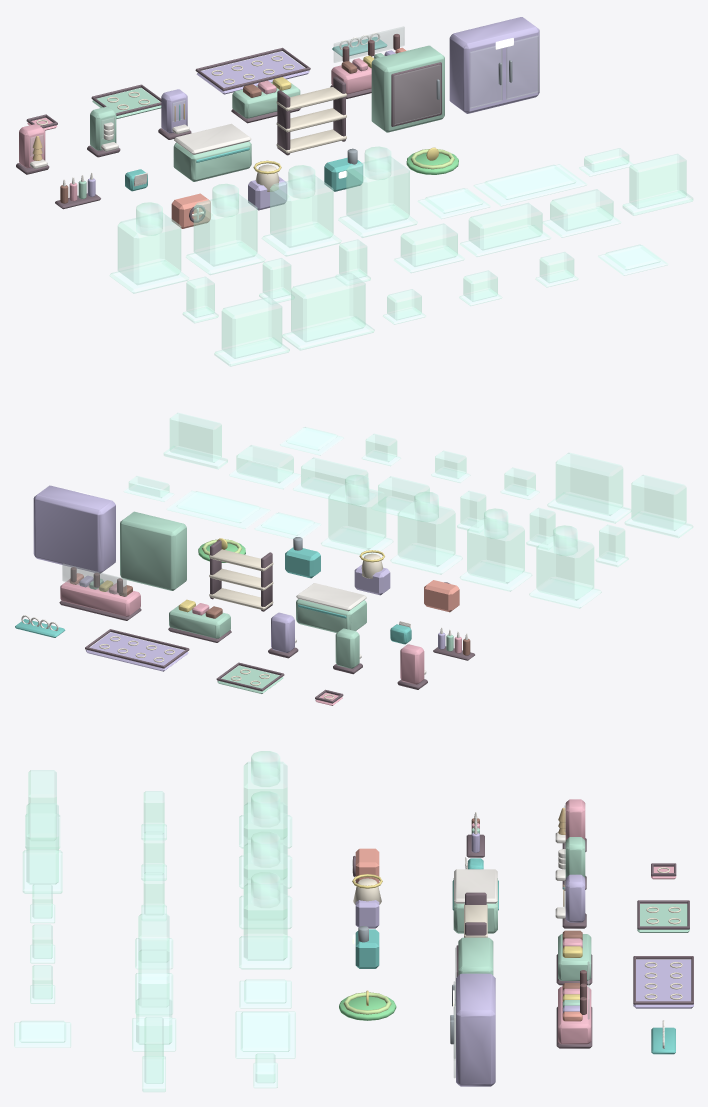
Rendered from trays_support_all.glb.
3 renders of one model, top to bottom at view 1: azimuth 30°, elevation 25°; view 2: azimuth 150°, elevation 25°; view 3: azimuth 270°, elevation 25°, orthographic. The views are drawn at different scales.
Parts seen in each view (by area): view 1: PremiumFreezer_Body, Ghost_SupportPremiumFreezer_Silhouette, Ghost_MachineVanilla_Silhouette, Ghost_MachineChocolate_Silhouette, Ghost_MachineMint_Silhouette, Ghost_MachineStrawberry_Silhouette, Ghost_SupportImprovedRefrigeratedStorage_Silhouette, Refrigerated_Body, Refrigerated_Inner, Ghost_SupportStarterStorageShelf_Silhouette, Ghost_SupportDeluxeToppingStation_Silhouette, Ghost_TrayEightOrder_Base (+53 smaller); view 2: PremiumFreezer_Body, Refrigerated_Body, Ghost_SupportPremiumFreezer_Silhouette, Ghost_MachineMint_Silhouette, Ghost_MachineVanilla_Silhouette, Ghost_MachineStrawberry_Silhouette, Ghost_MachineChocolate_Silhouette, Ghost_SupportImprovedRefrigeratedStorage_Silhouette, Ghost_SupportStarterStorageShelf_Silhouette, Ghost_TrayEightOrder_Base, Tray_8_Order_Base, Ghost_SupportDeluxeToppingStation_Silhouette (+46 smaller); view 3: PremiumFreezer_Body, Ghost_MachineMint_Silhouette, Ghost_TrayEightOrder_Base, Ghost_MachineStrawberry_Silhouette, Ghost_SupportPremiumFreezer_Silhouette, Tray_8_Order_Base, Ghost_MachineVanilla_Silhouette, Ghost_MachineChocolate_Silhouette, Ghost_TrayEightOrder_Silhouette, Ghost_MachineMint_Base, Ghost_SupportDeluxeToppingStation_Silhouette, Ghost_SupportPremiumFreezer_Base (+41 smaller).
Boxes of the visible parts, box(x1,y1,x2,y2) form: PremiumFreezer_Body: box(449, 17, 539, 113); Ghost_SupportPremiumFreezer_Silhouette: box(291, 272, 365, 342); Ghost_MachineVanilla_Silhouette: box(117, 212, 181, 285); Ghost_MachineChocolate_Silhouette: box(193, 193, 257, 266); Ghost_MachineMint_Silhouette: box(346, 156, 409, 229); Ghost_MachineStrawberry_Silhouette: box(270, 175, 333, 247); Ghost_SupportImprovedRefrigeratedStorage_Silhouette: box(221, 297, 282, 358); Refrigerated_Body: box(371, 45, 444, 132); Refrigerated_Inner: box(391, 62, 441, 126); Ghost_SupportStarterStorageShelf_Silhouette: box(629, 153, 686, 208); Ghost_SupportDeluxeToppingStation_Silhouette: box(468, 202, 542, 250); Ghost_TrayEightOrder_Base: box(473, 164, 587, 206); PremiumFreezer_Body: box(33, 485, 115, 573); Refrigerated_Body: box(120, 511, 186, 590); Ghost_SupportPremiumFreezer_Silhouette: box(555, 452, 623, 515); Ghost_MachineMint_Silhouette: box(328, 483, 386, 549); Ghost_MachineVanilla_Silhouette: box(536, 534, 594, 600); Ghost_MachineStrawberry_Silhouette: box(397, 500, 455, 566); Ghost_MachineChocolate_Silhouette: box(467, 517, 524, 583); Ghost_SupportImprovedRefrigeratedStorage_Silhouette: box(631, 474, 686, 531); Ghost_SupportStarterStorageShelf_Silhouette: box(169, 412, 221, 462); Ghost_TrayEightOrder_Base: box(167, 490, 270, 528); Tray_8_Order_Base: box(86, 632, 188, 671); Ghost_SupportDeluxeToppingStation_Silhouette: box(301, 457, 368, 497); PremiumFreezer_Body: box(456, 973, 495, 1086); Ghost_MachineMint_Silhouette: box(243, 883, 287, 960); Ghost_TrayEightOrder_Base: box(235, 1011, 295, 1058); Ghost_MachineStrawberry_Silhouette: box(243, 842, 287, 920); Ghost_SupportPremiumFreezer_Silhouette: box(26, 803, 58, 884); Tray_8_Order_Base: box(633, 959, 693, 1008); Ghost_MachineVanilla_Silhouette: box(243, 761, 287, 839); Ghost_MachineChocolate_Silhouette: box(243, 802, 287, 879); Ghost_TrayEightOrder_Silhouette: box(240, 1011, 290, 1051); Ghost_MachineMint_Base: box(239, 936, 292, 969); Ghost_SupportDeluxeToppingStation_Silhouette: box(138, 949, 169, 1006); Ghost_SupportPremiumFreezer_Base: box(22, 850, 62, 893).
Bounding box in the file's own units: 20.4 × 2.9 × 21.35.
